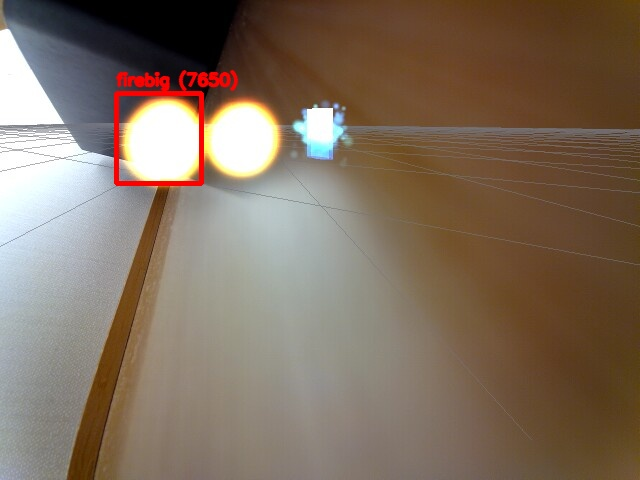firebig: (116, 93, 201, 183)
